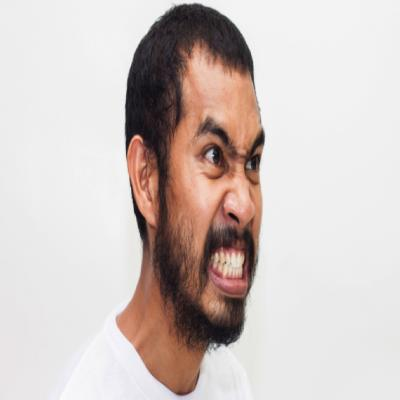angry: (134, 15, 270, 348)
